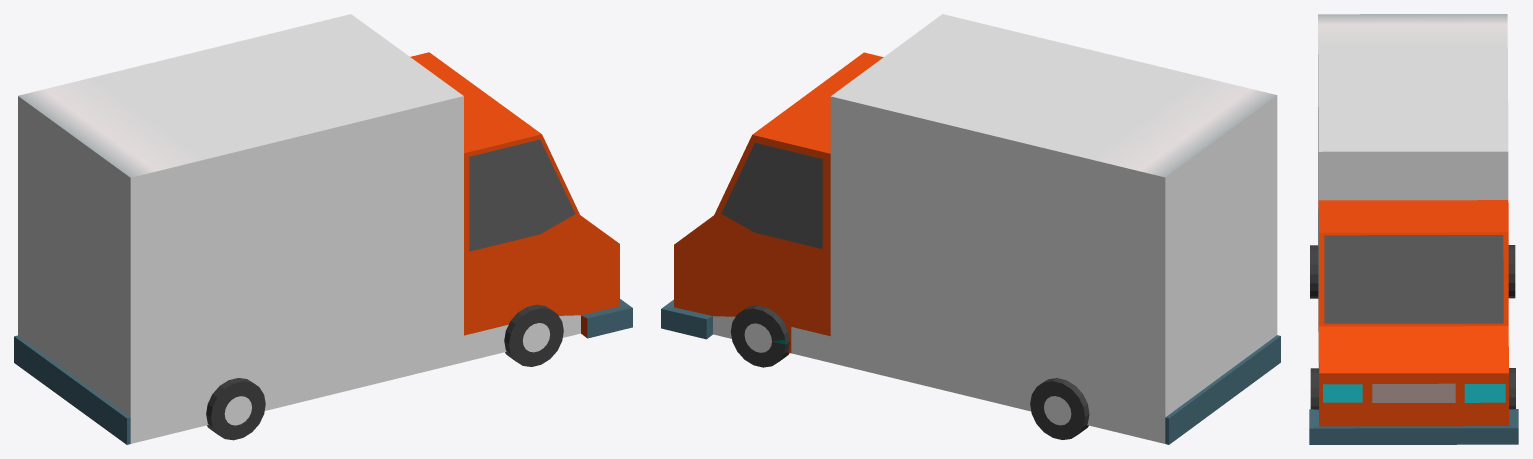
The model's file is car_2_2.dae.
3 renders of one model, left to right at view 1: azimuth 30°, elevation 25°; view 2: azimuth 150°, elevation 25°; view 3: azimuth 270°, elevation 25°, orthographic. The views are drawn at different scales.
Parts seen in each view (by area): view 1: Car_08.010; view 2: Car_08.010; view 3: Car_08.010.
Boxes of the visible parts, bbox=[...] form: Car_08.010: bbox=[14, 14, 632, 444]; Car_08.010: bbox=[661, 14, 1280, 444]; Car_08.010: bbox=[1309, 14, 1518, 444].
Bounding box in the file's own units: 5.56 × 2.38 × 3.
Materials: 1 (1 with a texture image).
